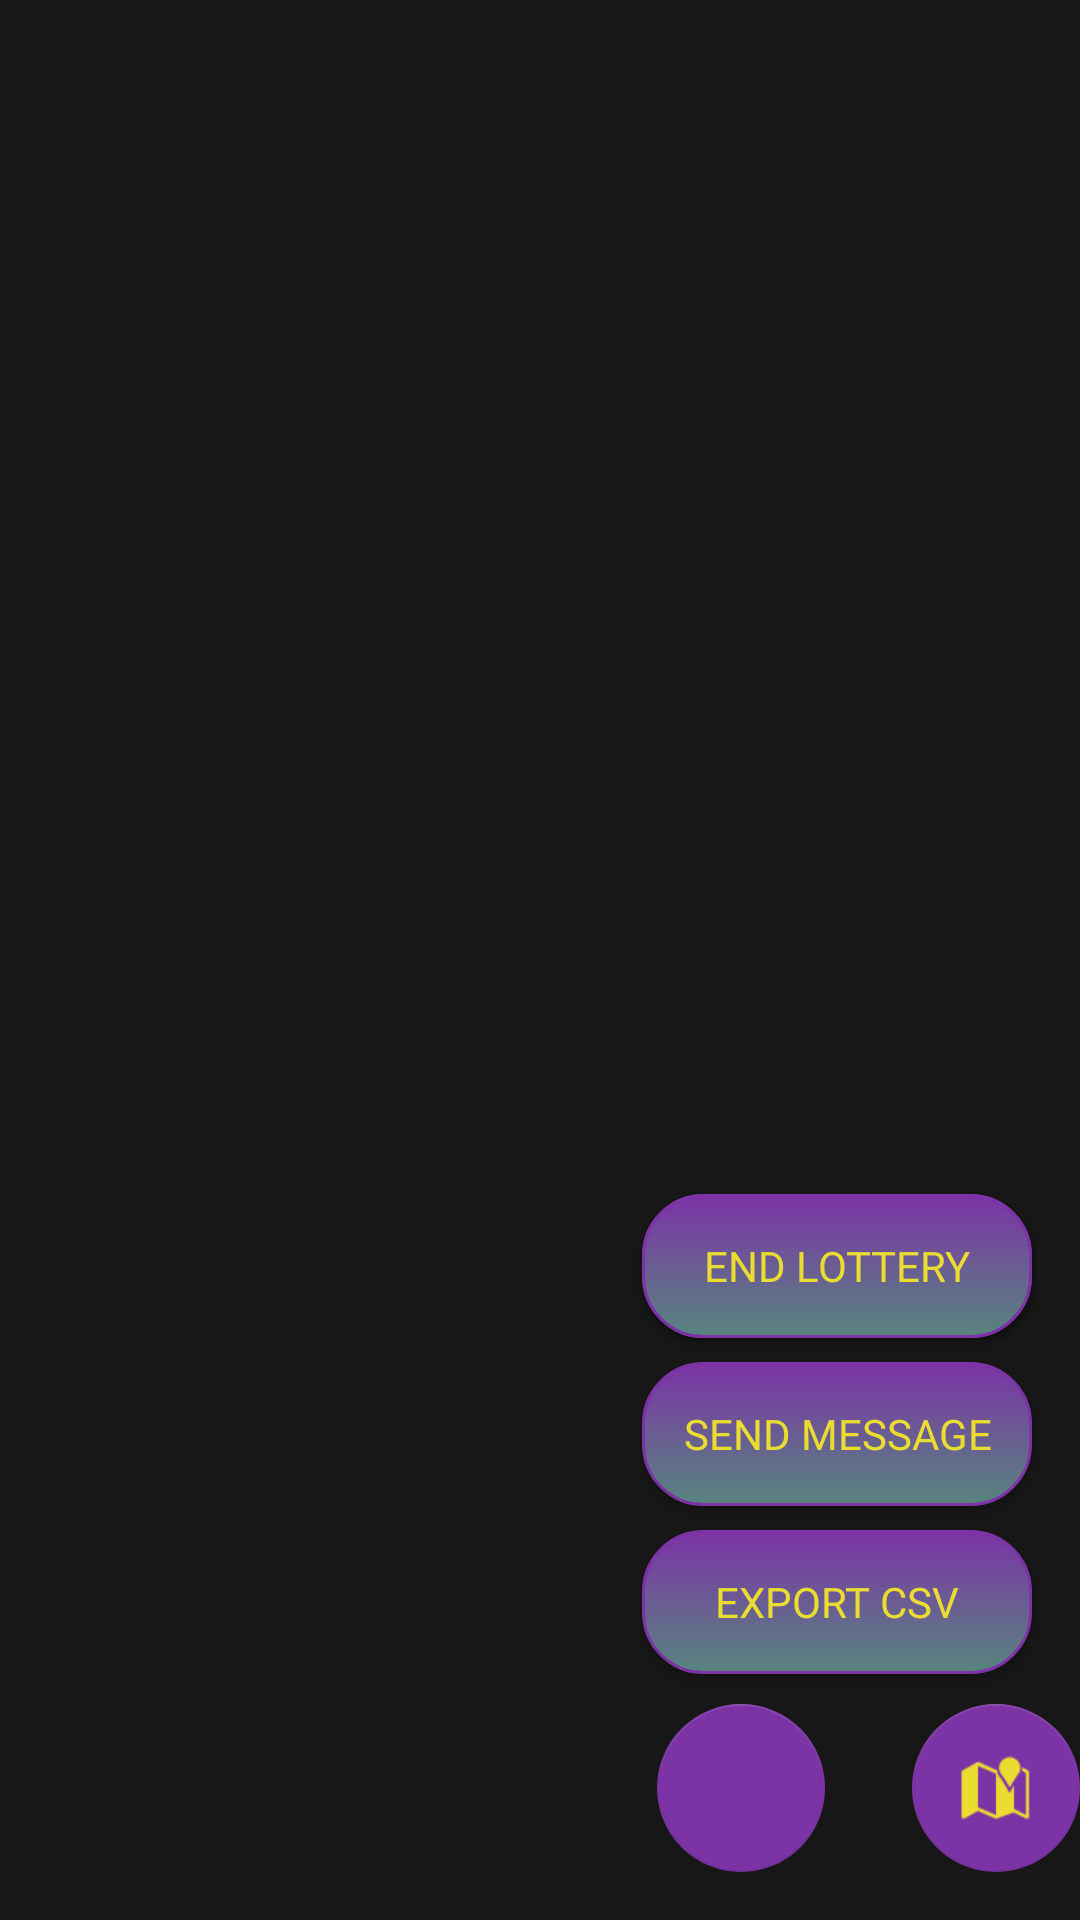

Icons on this 1080*1920 Android screen, each with its box as [left=x1, top=y1, right=x2, bottom=y2]:
map: [left=912, top=1704, right=1080, bottom=1872]
